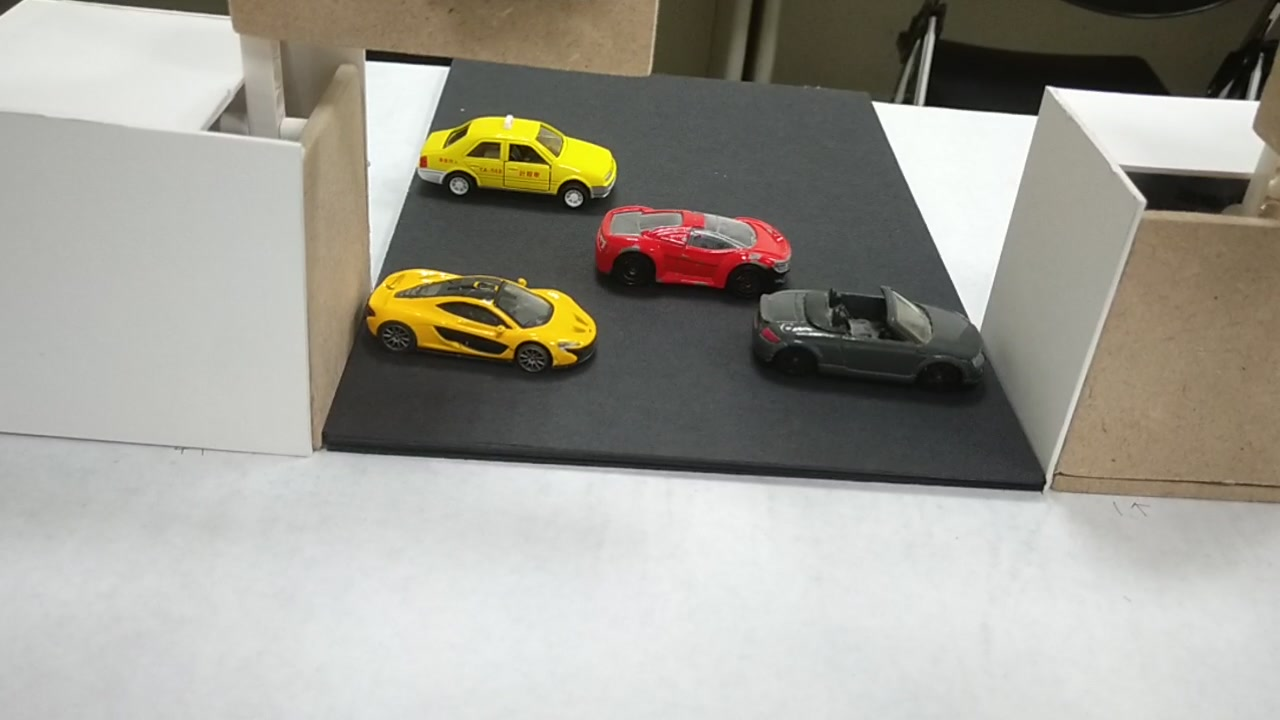car: (367, 263, 597, 377), (764, 284, 980, 389), (414, 120, 618, 210), (600, 209, 793, 299)
